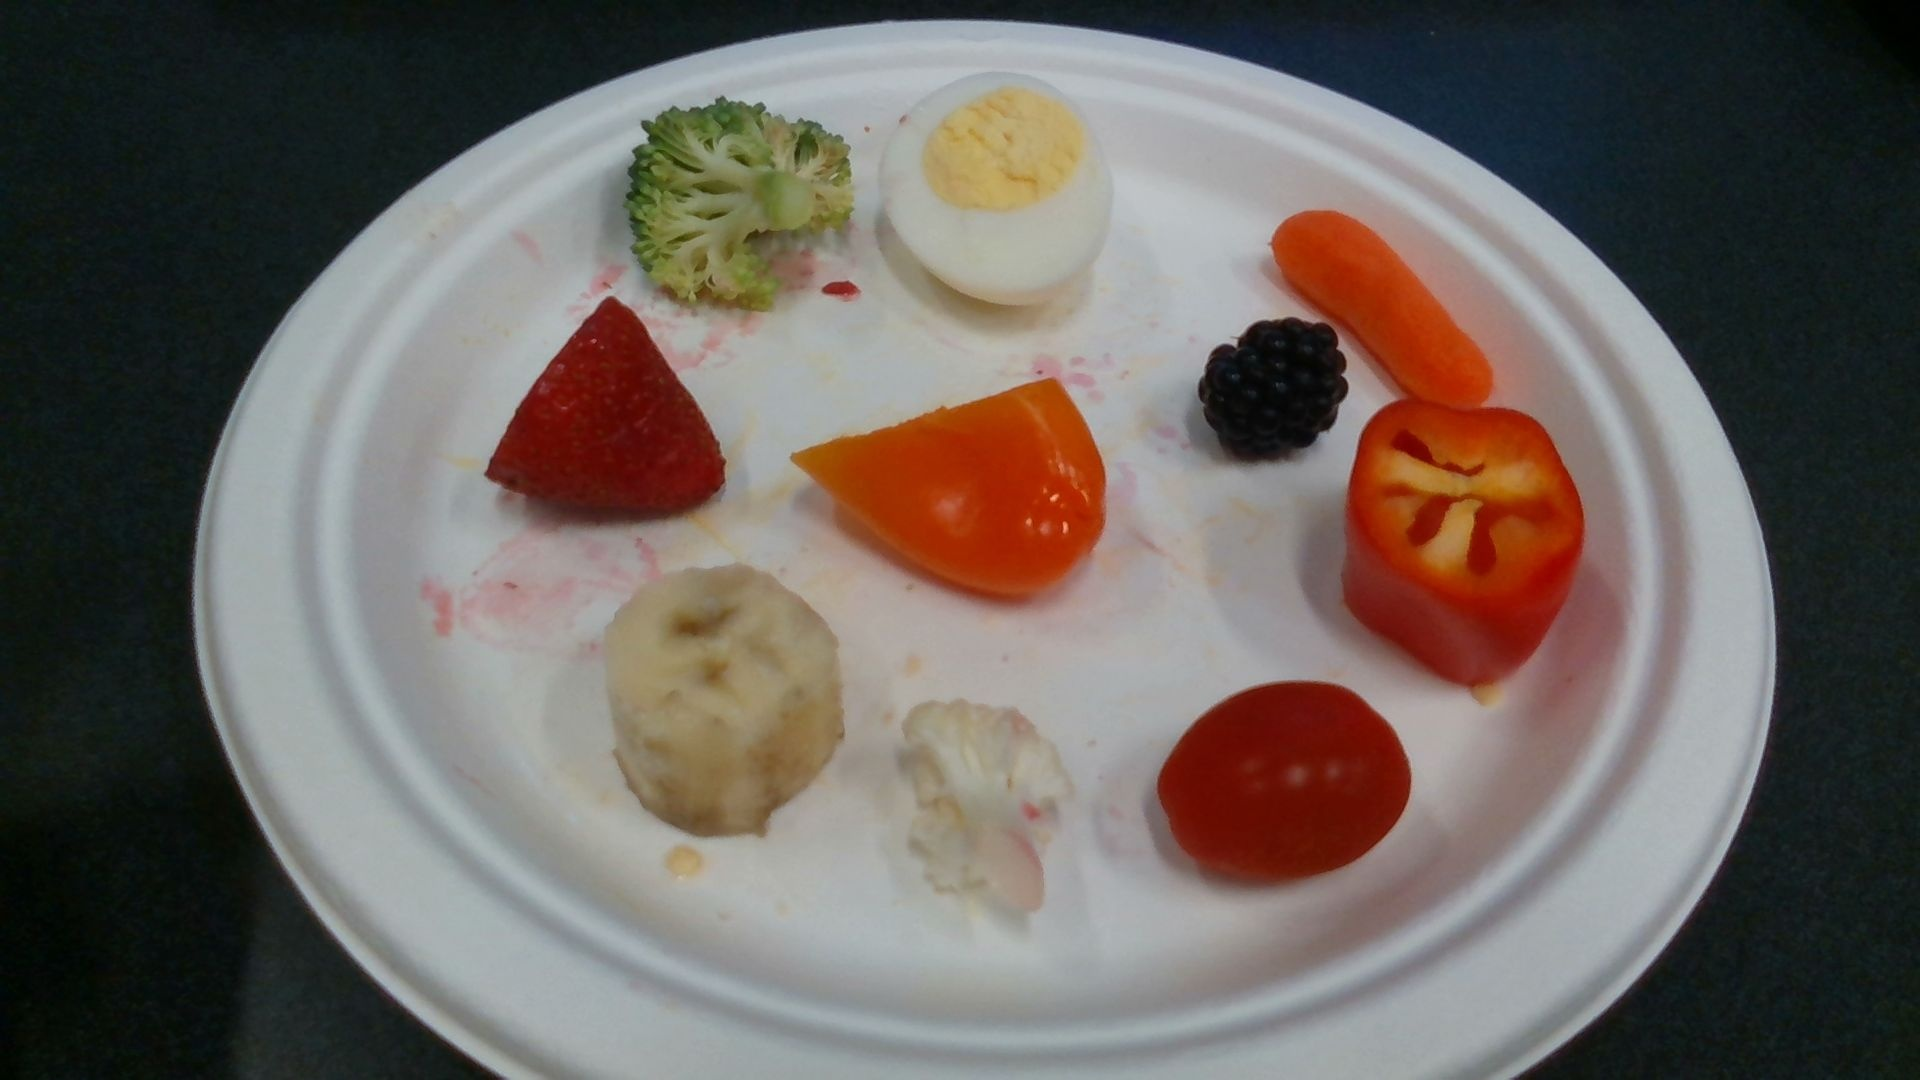banana: (604, 564, 844, 835)
bell_pepper: (789, 378, 1106, 600), (1345, 406, 1584, 680)
blackberry: (1200, 320, 1346, 455)
broccoli: (629, 98, 855, 306)
carrot: (1273, 211, 1494, 407)
cauliflower: (902, 700, 1062, 909)
cherry_tomato: (1160, 683, 1412, 878)
egg: (882, 71, 1114, 305)
strawberry: (487, 301, 727, 513)
